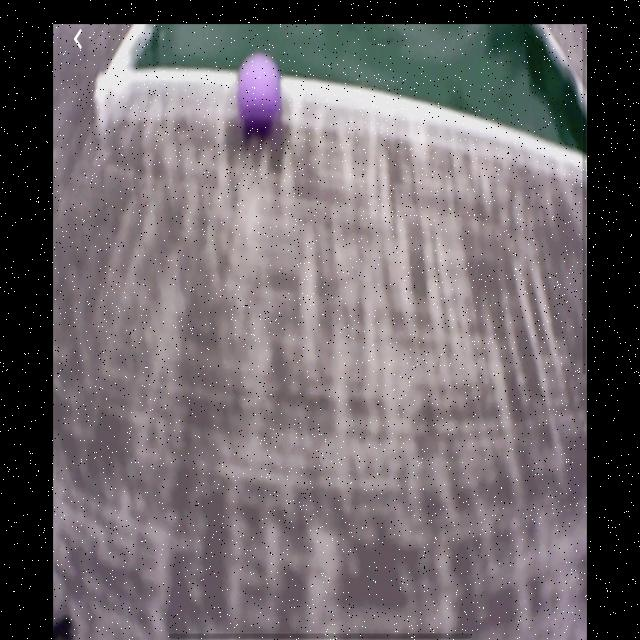ball: (237, 52, 283, 140)
